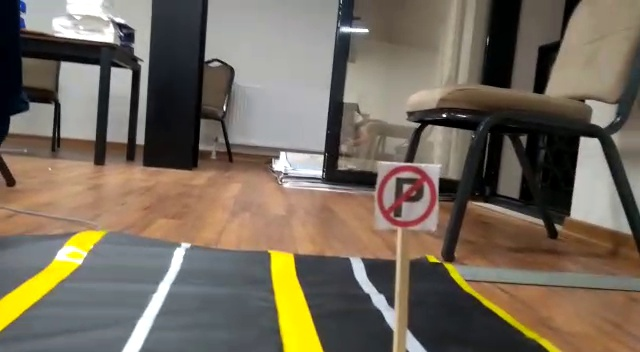park_yapilmaz: (377, 159, 438, 230)
